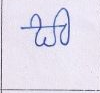i_matra: (57, 7, 72, 46)
